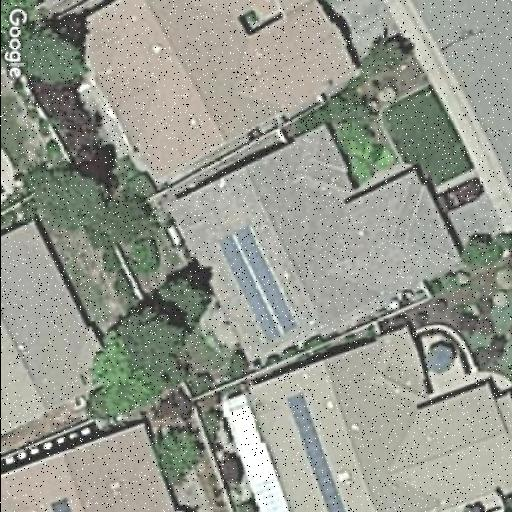solar-panel: (219, 224, 300, 344), (283, 388, 342, 510), (44, 495, 78, 511)
